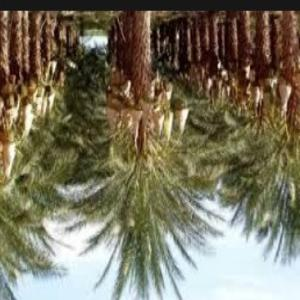palm tree: (0, 9, 299, 298)
